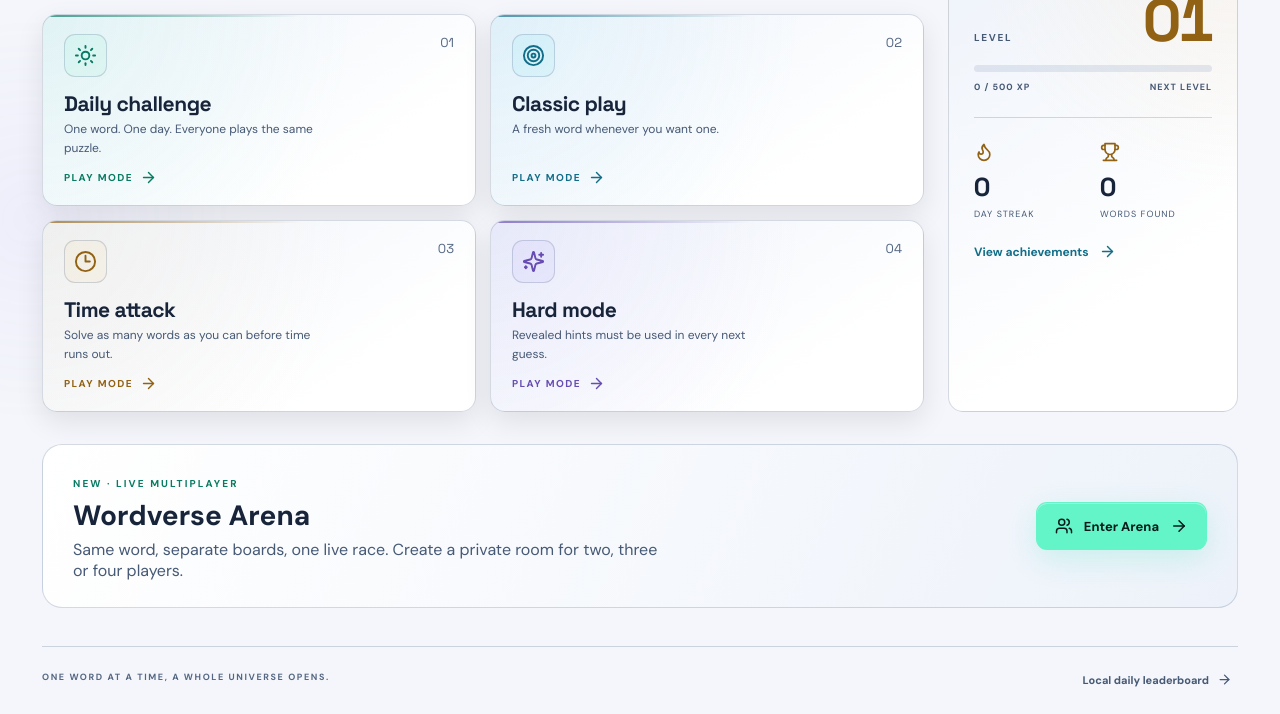
Scenario: interface flows › opens Arena and keeps offline Solo Practice available
This screenshot has width=1280, height=714.
(page scrolled)
Click the button "Enter Arena". click: (1121, 526)
box: x1=1036 y1=502 x2=1207 y2=550
(page scrolled)
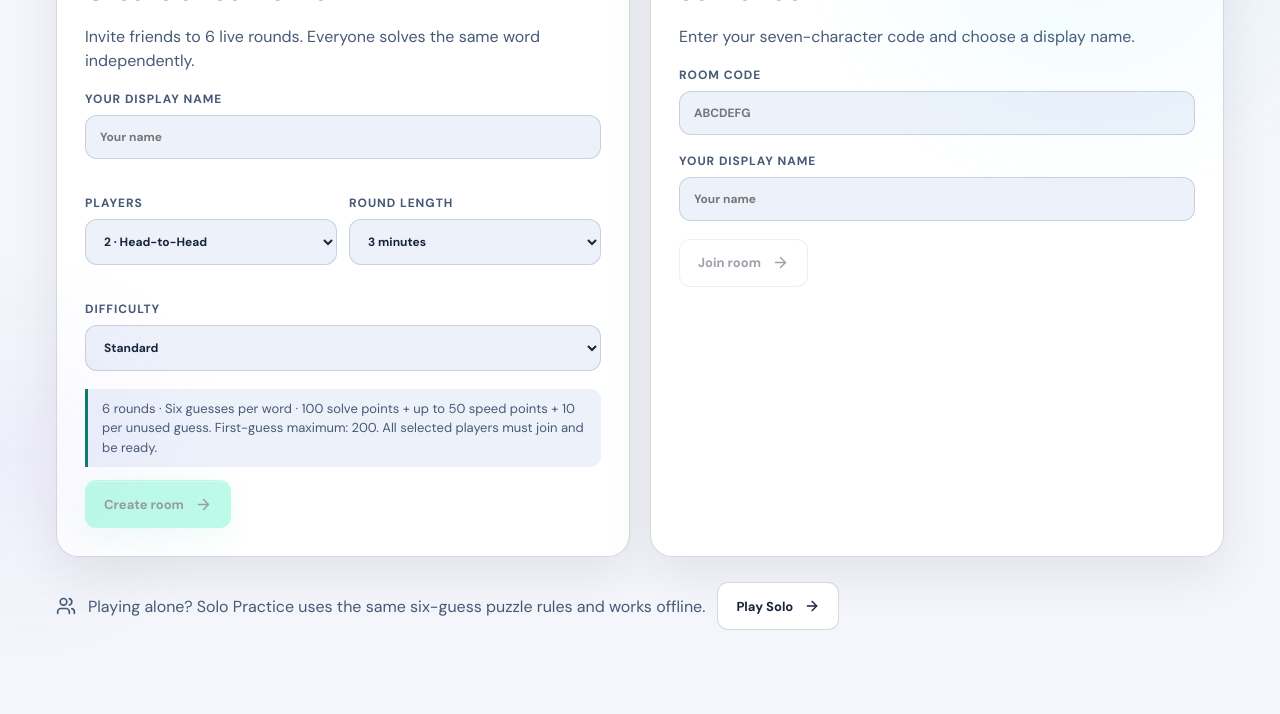
Click the button "Play Solo". click: (778, 606)
box: x1=717 y1=582 x2=839 y2=630
(page scrolled)
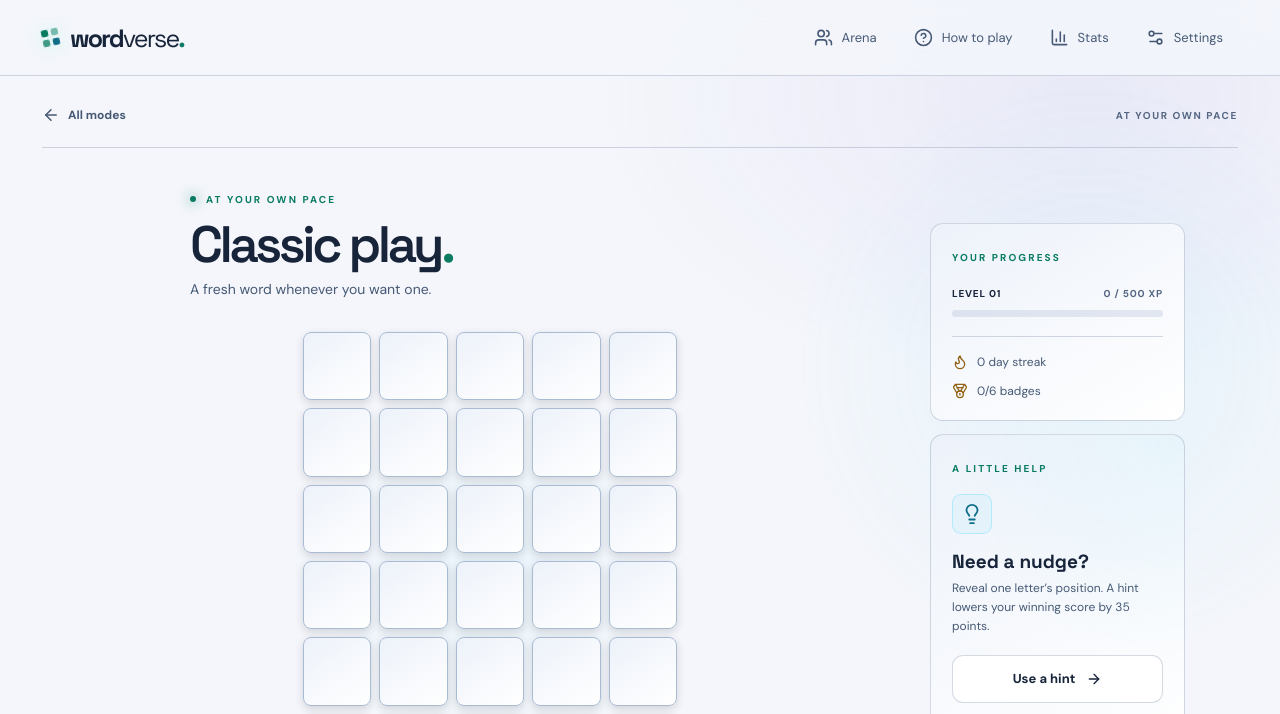
Check: the heading "Classic play." is shown, box x1=190 y1=218 x2=452 y2=272
